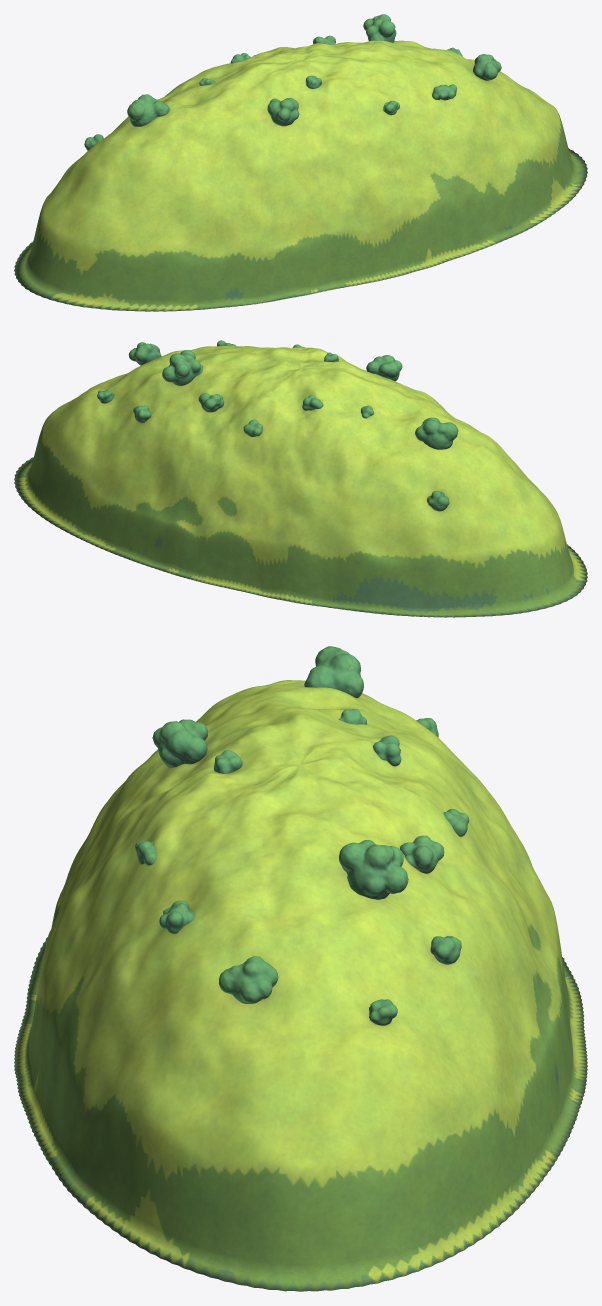
Rendered from B01_RollingHill.fbx.
3 renders of one model, top to bottom at view 1: azimuth 30°, elevation 25°; view 2: azimuth 150°, elevation 25°; view 3: azimuth 270°, elevation 25°, orthographic. The views are drawn at different scales.
Parts seen in each view (by area): view 1: B01_RollingHill; view 2: B01_RollingHill; view 3: B01_RollingHill.
Boxes of the visible parts, <box> form: B01_RollingHill: <box>14,14,587,311</box>; B01_RollingHill: <box>14,340,587,617</box>; B01_RollingHill: <box>14,646,587,1291</box>.
Size of the model in its own units: 28 by 8.09 by 14.12.
